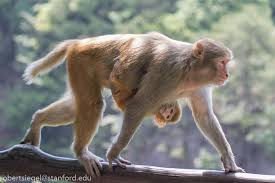monkey: (30, 26, 272, 165), (102, 83, 196, 137)
